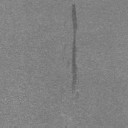red iron: (71, 3, 78, 91)
